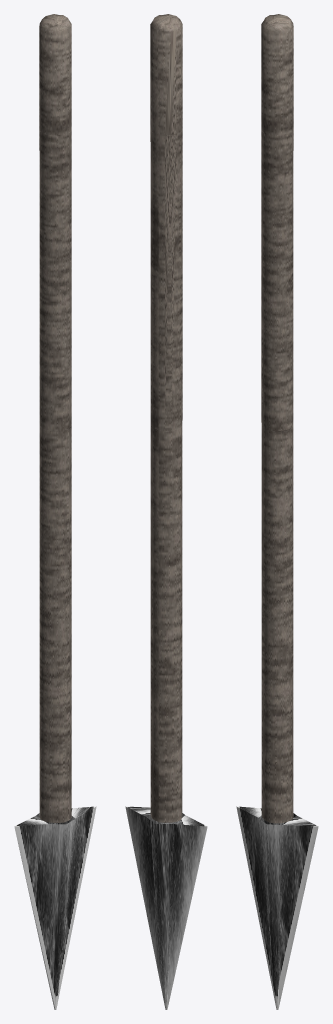
Rendered from lancet_hurdle.FBX.
3 views of the same model, side by side, from view 1: azimuth 30°, elevation 25°; view 2: azimuth 150°, elevation 25°; view 3: azimuth 330°, elevation 25° (orthographic).
Visible parts, largest first — view 1: Object001; view 2: Object001; view 3: Object001.
Boxes of the visible parts, x1,y1,x2,y2 form: Object001: [14, 14, 96, 1009]; Object001: [125, 14, 207, 1009]; Object001: [236, 14, 318, 1009].
Bounding box in the file's own units: 9.1 × 105 × 4.05.
Materials: 2 (2 with a texture image).
